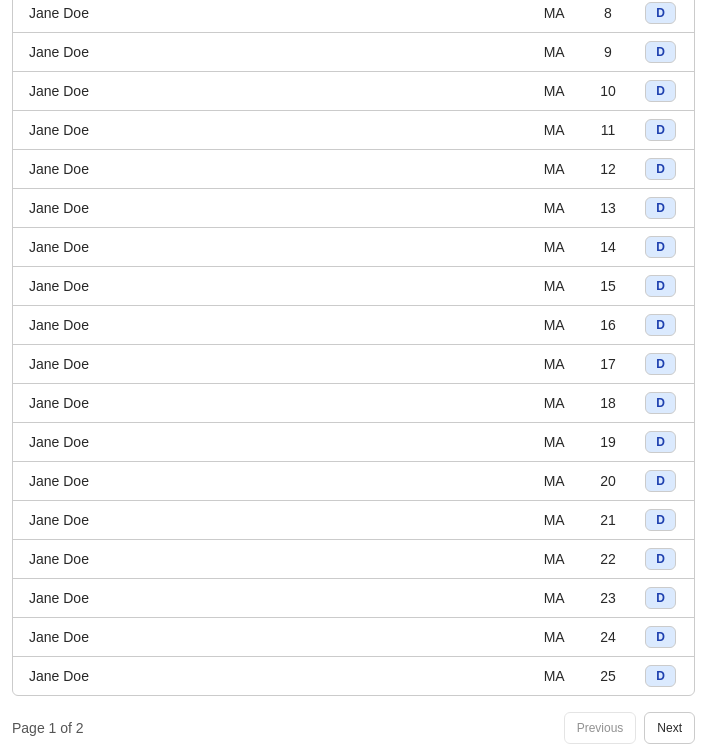
Test: CongressTable › disables Next on last page and enables Previous
(page scrolled)
Expected: the text "Page 1 of 2" is shown, [12,718,84,738]
Click the button "Next": (670, 728) [644,712,695,743]
(page scrolled)
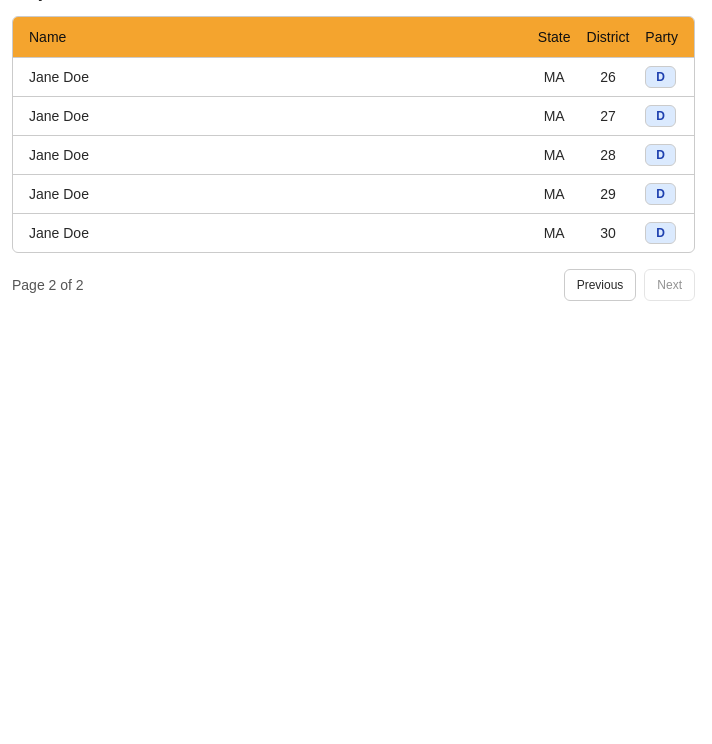
Now the text "Page 2 of 2" is shown, box [12,274,84,294]
Now the button "Previous" is enabled, box [564,268,636,300]
Now the button "Next" is disabled, box [644,268,695,300]
